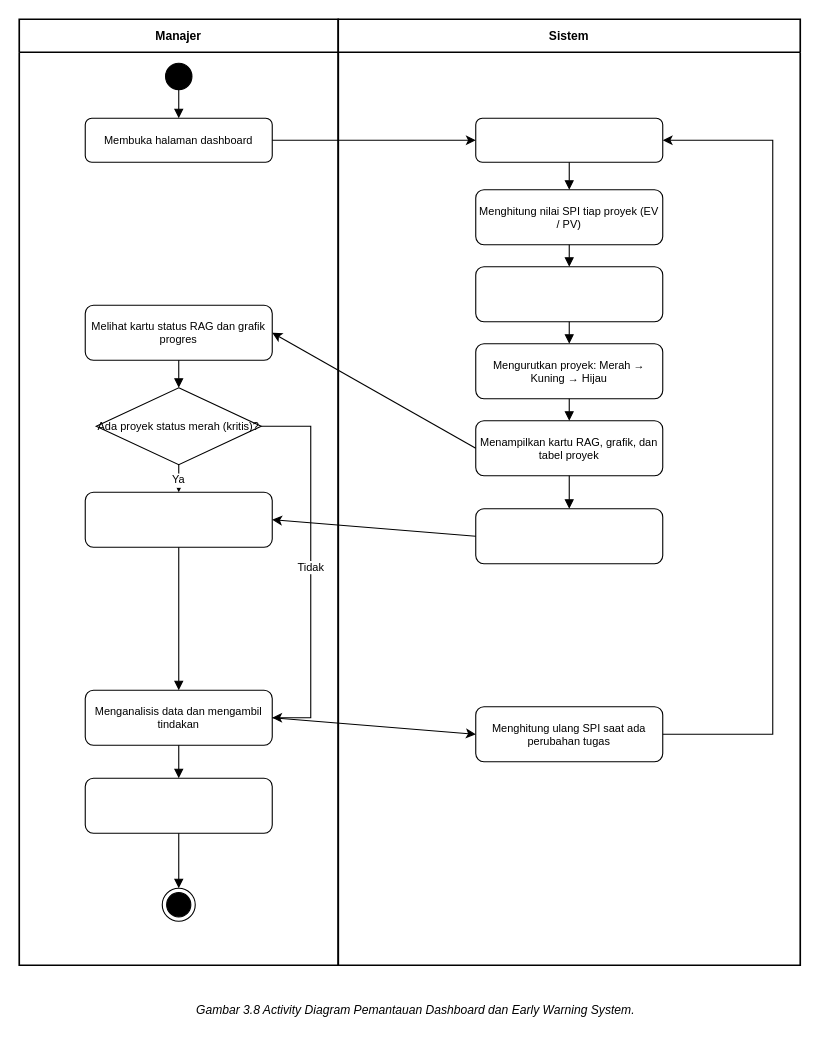
This 831x1046 diagram has some shape labels left out. Here are the shapes that lost their labels. From the top down, the centre of each, then its label:
At (x=569, y=139): "Mengambil data semua proyek aktif".
At (x=569, y=294): "Menetapkan status RAG: Merah / Kuning / Hijau".
At (x=178, y=519): "Melihat notifikasi Early Warning System".
At (x=569, y=536): "Menampilkan notifikasi EWS untuk proyek kritis".
At (x=178, y=805): "Memantau progres proyek secara berkala".
